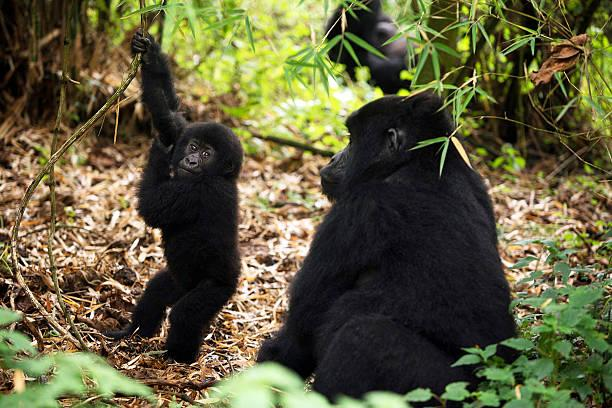goriile_montagne: (274, 82, 503, 384), (128, 35, 260, 365)
